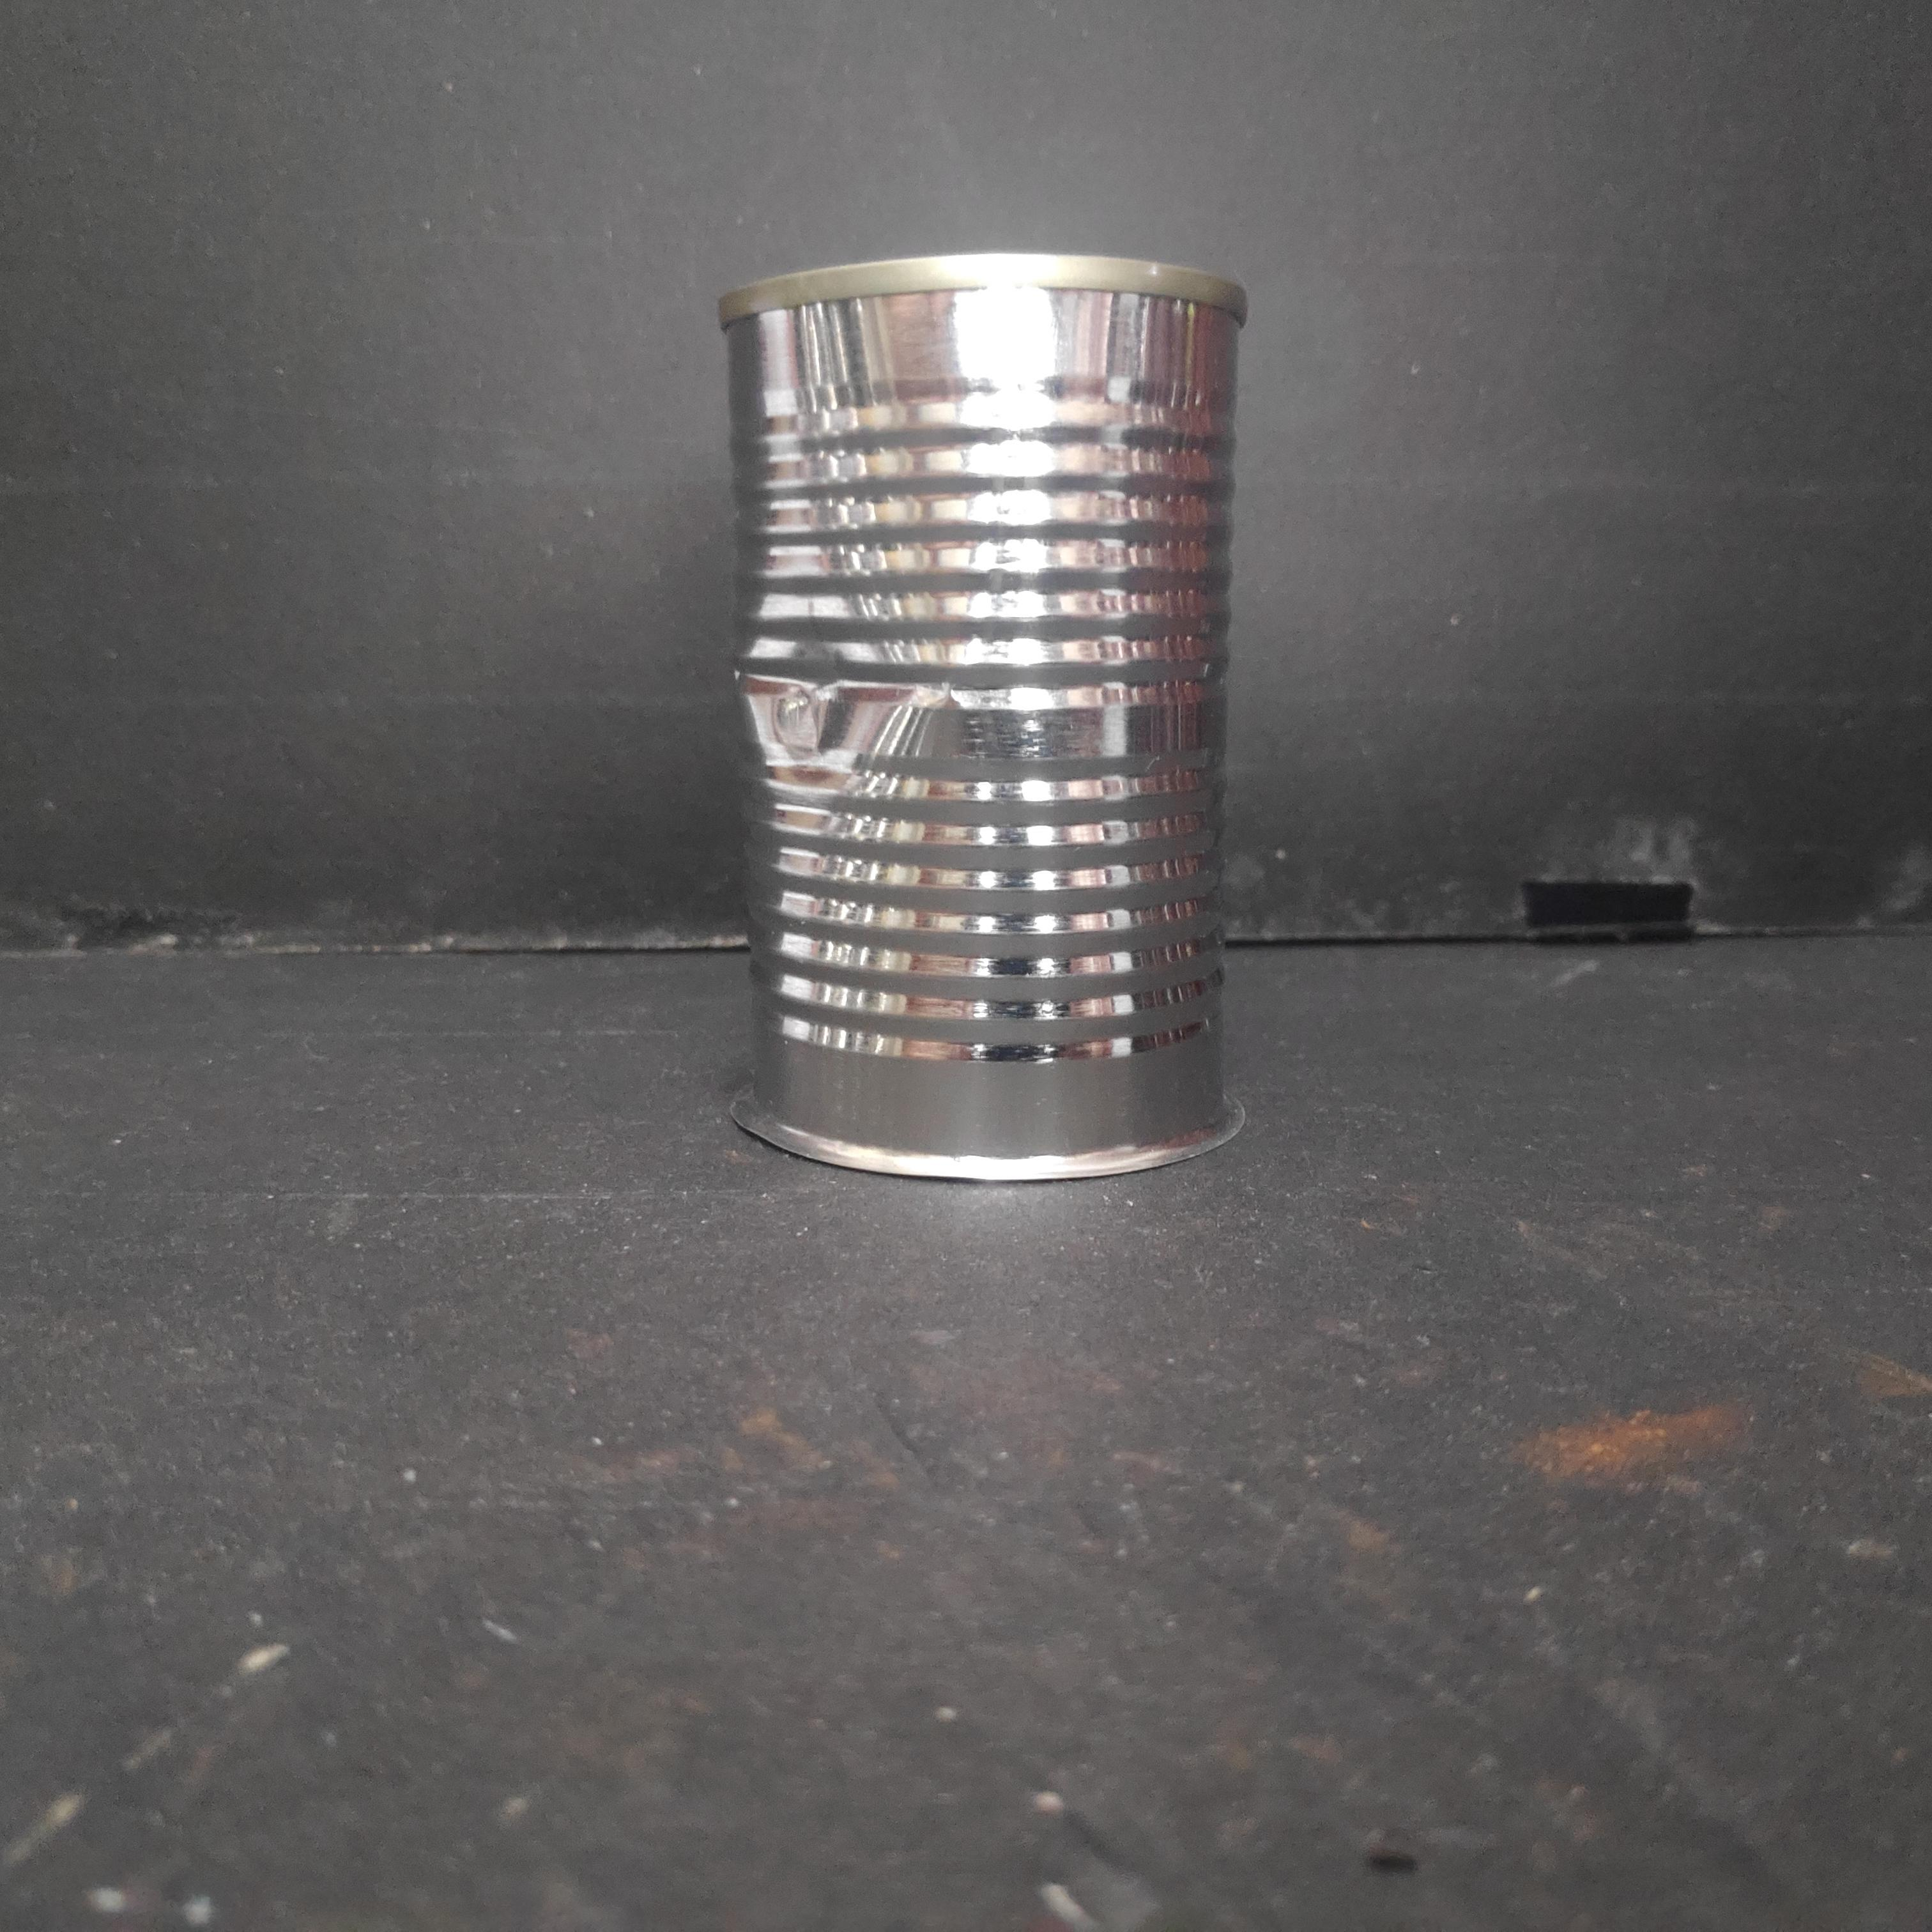Minor Defect: (708, 234, 1244, 1192)
